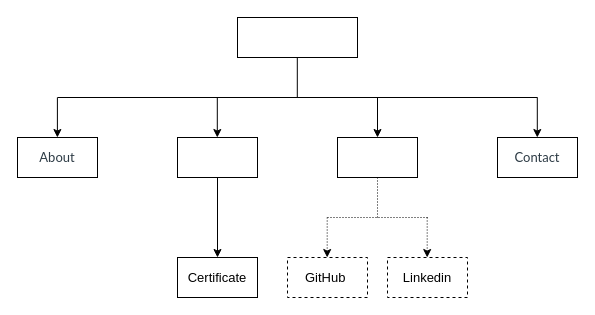
This 595x315 diagram has some shape labels left out. Here are the shapes that lost their labels. From the top down, the box of each, then its label:
(236, 16, 358, 58): Home (index.html)
(176, 136, 258, 178): Skills
(336, 136, 418, 178): Social
